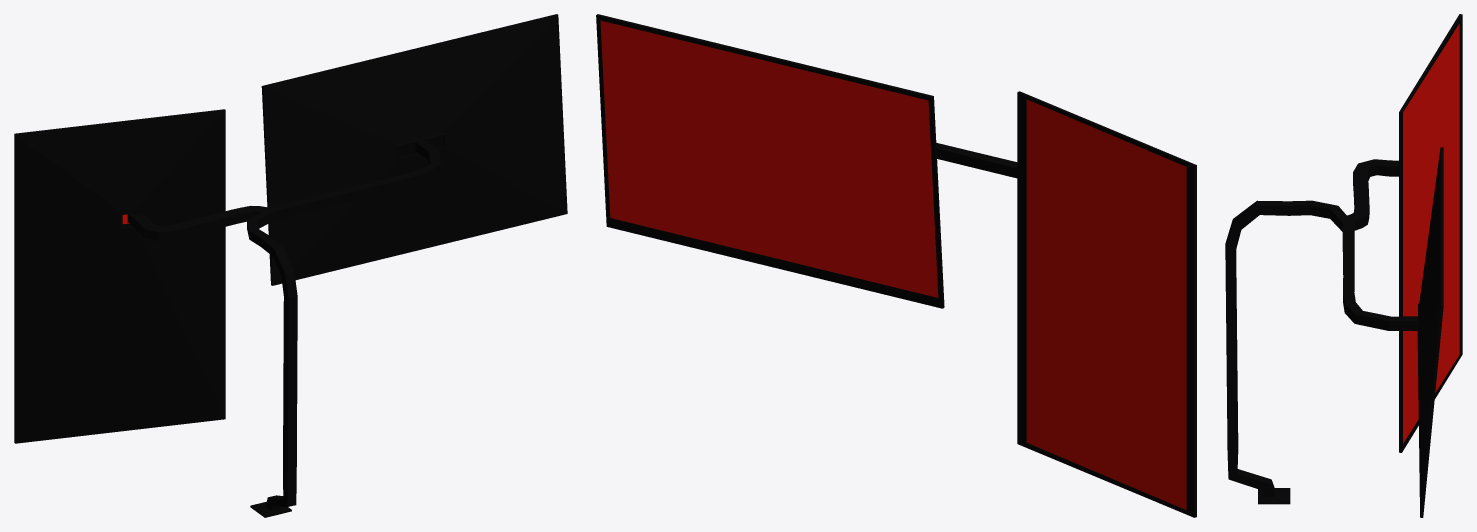
Rendered from monitor_gamer.fbx.
3 renders of one model, left to right at view 1: azimuth 30°, elevation 25°; view 2: azimuth 150°, elevation 25°; view 3: azimuth 270°, elevation 25°, orthographic. The views are drawn at different scales.
Visible parts, largest first — view 1: Cube, Cube.001; view 2: Cube, Cube.001; view 3: Cube.001, Cube.
Boxes of the visible parts, left/top/right/bottom form: Cube: left=127, top=14, right=567, bottom=517; Cube.001: left=14, top=109, right=225, bottom=443; Cube: left=596, top=14, right=1017, bottom=308; Cube.001: left=1017, top=91, right=1196, bottom=517; Cube.001: left=1399, top=14, right=1462, bottom=452; Cube: left=1225, top=147, right=1443, bottom=517.
Size of the model in its own units: 2173 by 1378 by 758.
